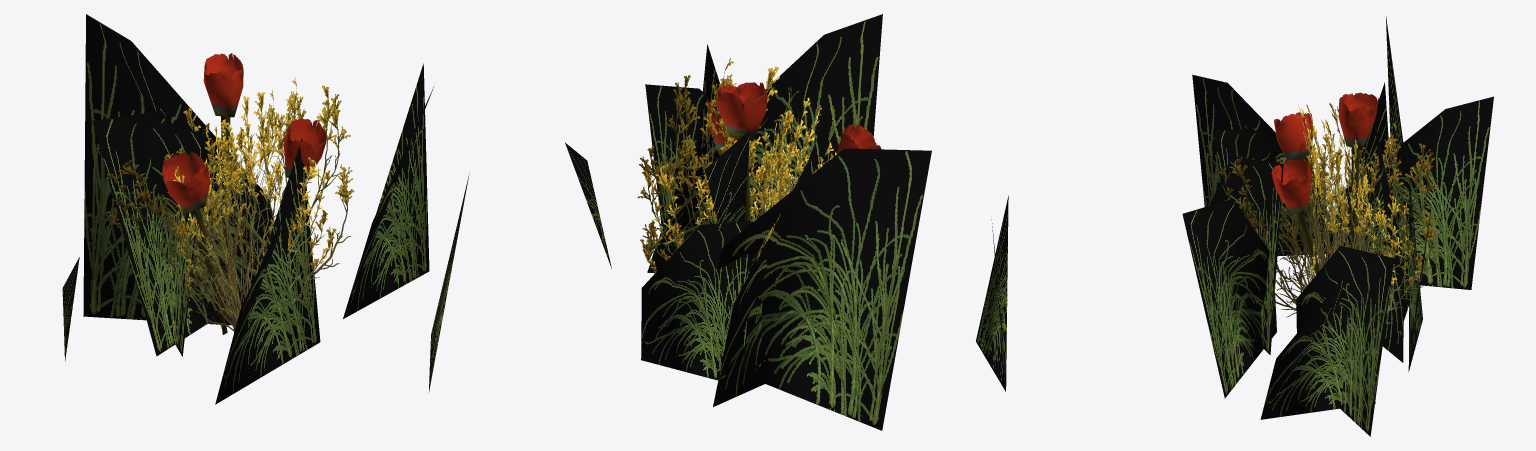
The model's file is submap-garden.glb.
3 views of the same model, side by side, from view 1: azimuth 30°, elevation 25°; view 2: azimuth 150°, elevation 25°; view 3: azimuth 270°, elevation 25° (orthographic). The views are drawn at different scales.
Visible parts, largest first — view 1: garden-grass, garden-flower-yellow, garden-flower-red; view 2: garden-grass, garden-flower-yellow, garden-flower-red; view 3: garden-grass, garden-flower-yellow, garden-flower-red.
Boxes of the visible parts, <box> form: garden-grass: <box>62,14,469,404</box>; garden-flower-yellow: <box>106,77,354,334</box>; garden-flower-red: <box>162,53,326,334</box>; garden-grass: <box>565,14,1008,430</box>; garden-flower-yellow: <box>637,58,836,278</box>; garden-flower-red: <box>706,82,881,221</box>; garden-grass: <box>1182,16,1493,436</box>; garden-flower-yellow: <box>1219,102,1438,323</box>; garden-flower-red: <box>1271,92,1378,274</box>.
Bounding box in the file's own units: 1.82 × 1 × 1.43.
3 materials, 3 textured.
